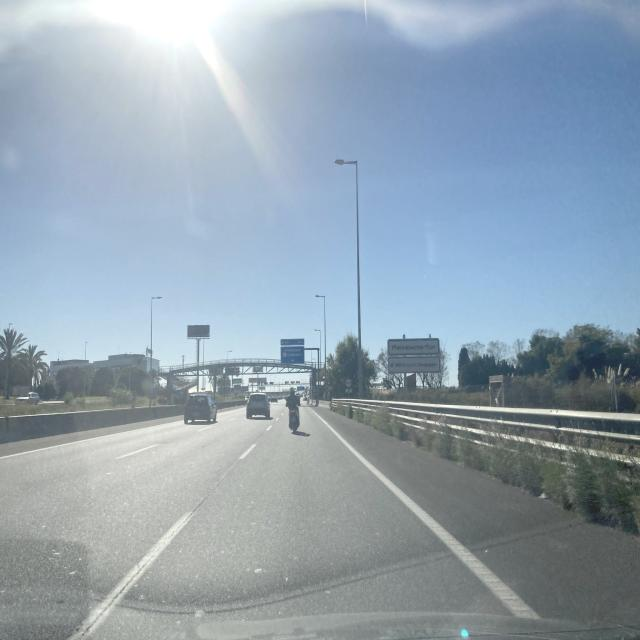car: (184, 390, 218, 424), (245, 392, 272, 421), (15, 393, 42, 405), (270, 392, 279, 403)
